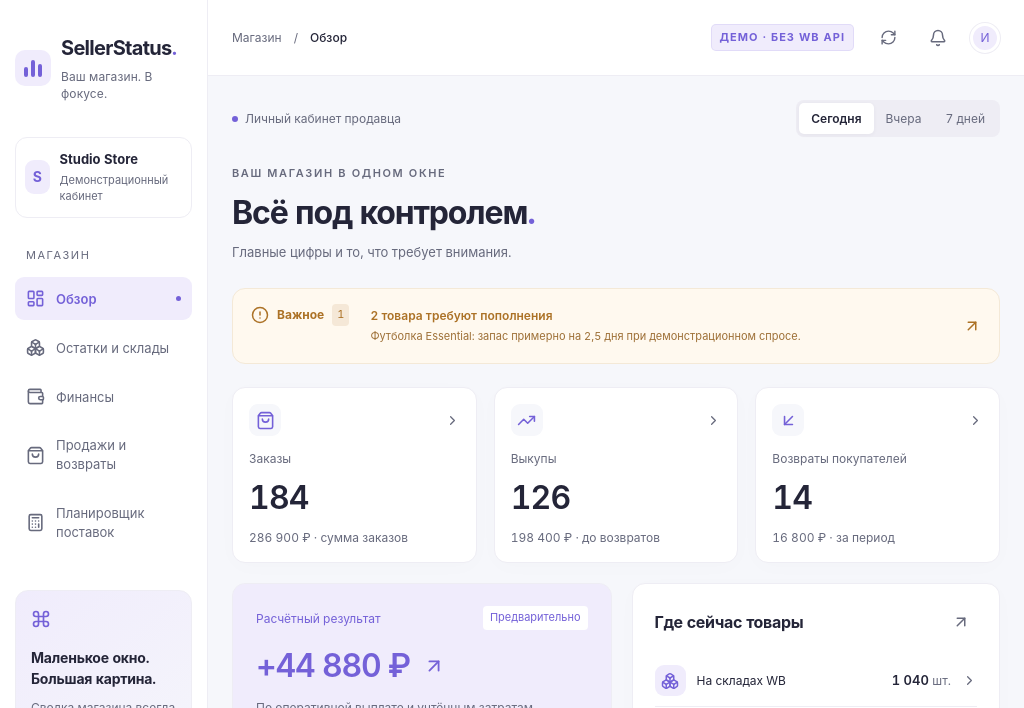
Test case: Loading and recovery in the interface › keeps the same-period snapshot on a temporary refresh failure and clears the warning after recovery
This screenshot has width=1024, height=708.
Expected: the button "Выкупы 126 198 400 ₽ · до возвратов" is shown, [494,387,738,563]
Click the button named "Обновить демоданные". click: (888,38)
box: [870,20,906,56]
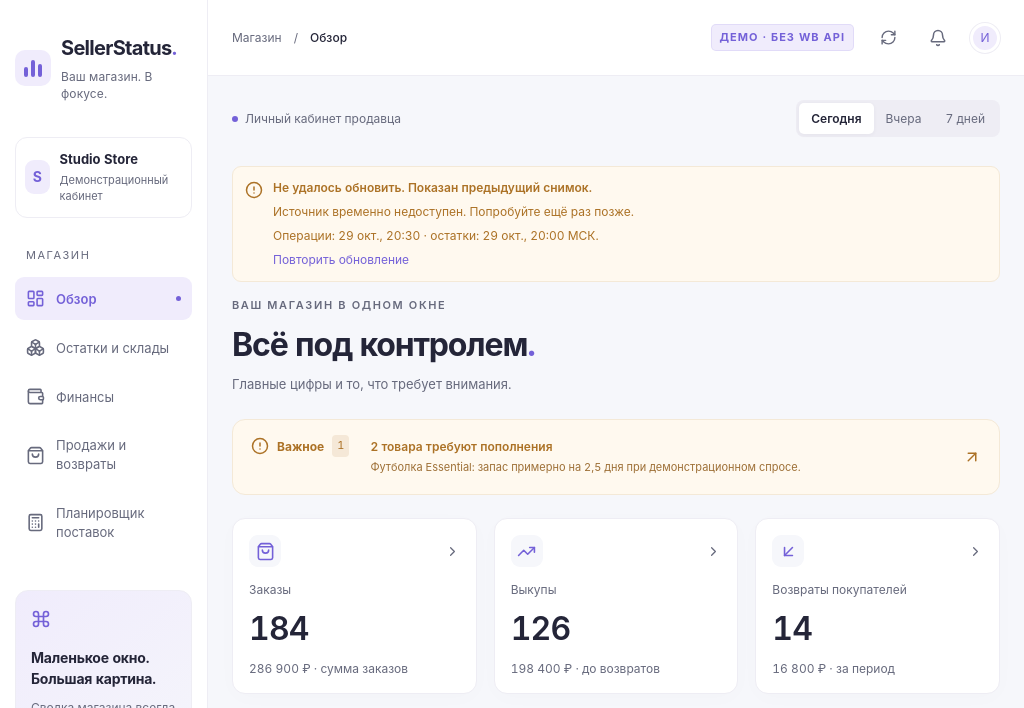
Expected: the button "Выкупы 126 198 400 ₽ · до возвратов" is shown, [494,518,738,694]
Expected: the text "Не удалось обновить. Показан предыдущий снимок." is shown, [273,180,592,195]
Click the button "Повторить обновление". click: (341,257)
box: [273,245,409,269]
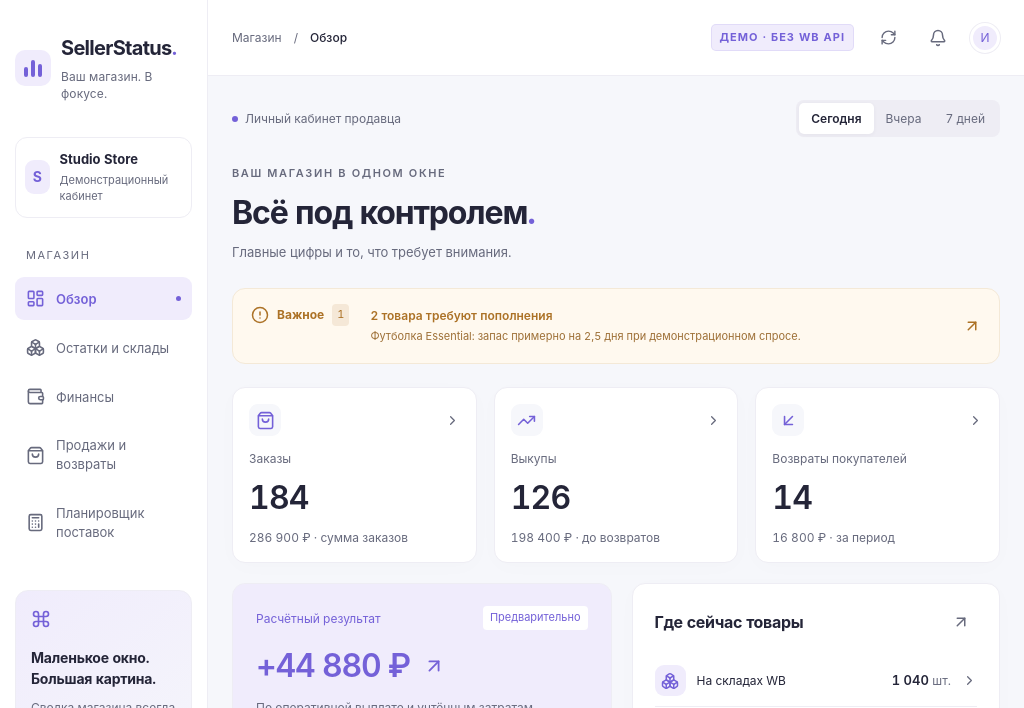
Expected: the text "Не удалось обновить. Показан предыдущий снимок." is gone
